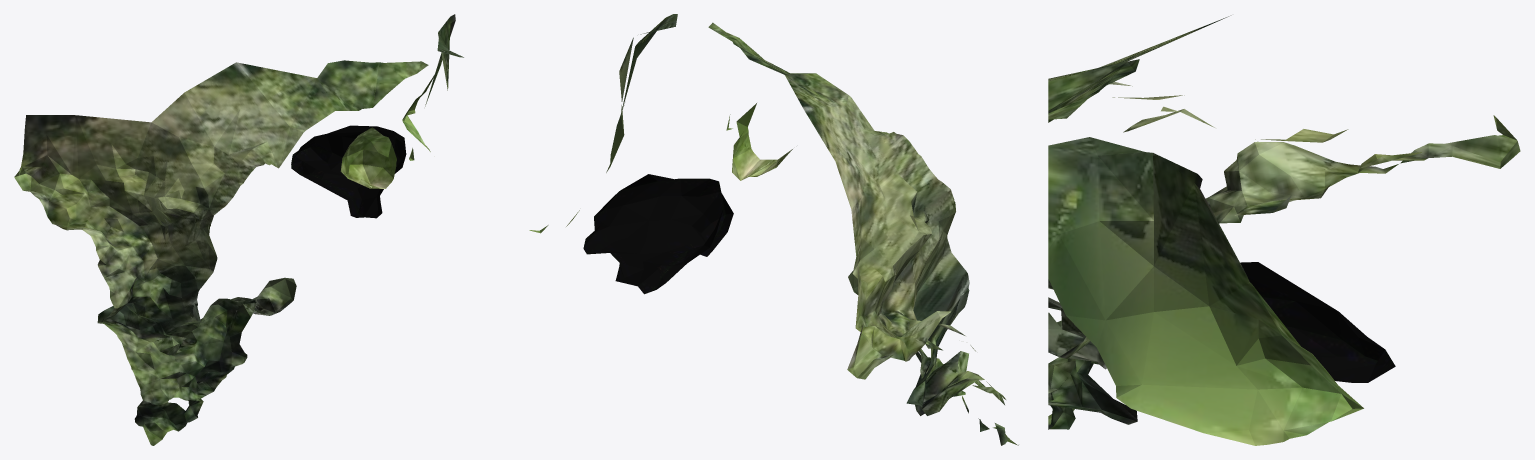
The picture shows the model from 3 angles, left to right: view 1: azimuth 30°, elevation 25°; view 2: azimuth 150°, elevation 25°; view 3: azimuth 270°, elevation 25°; orthographic projection. The views are drawn at different scales.
Bounding box in the file's own units: 26.11 × 22.44 × 18.16.
2 materials, 2 textured.
